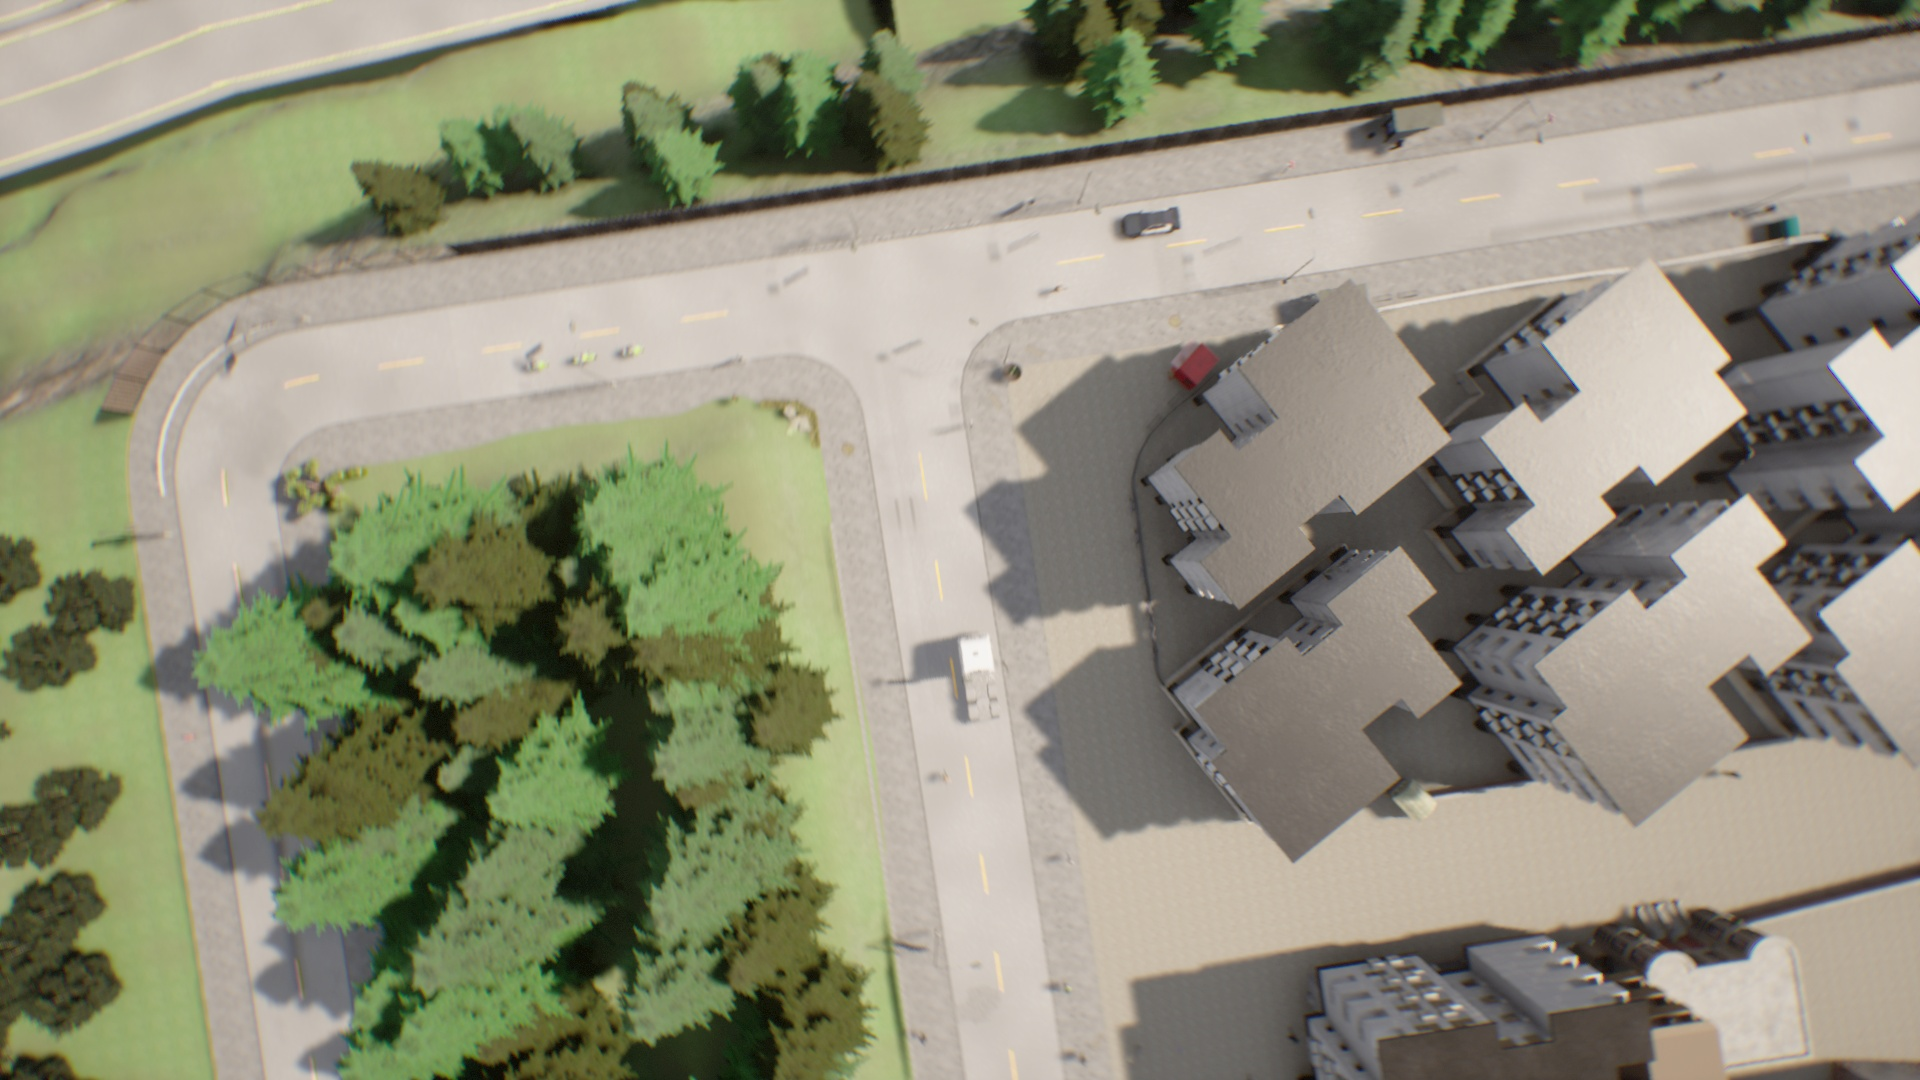Car: (1118, 214, 1196, 236)
Motorcycle: (566, 347, 601, 364), (518, 357, 555, 372), (620, 343, 649, 361)
Truck: (951, 630, 1006, 721)
